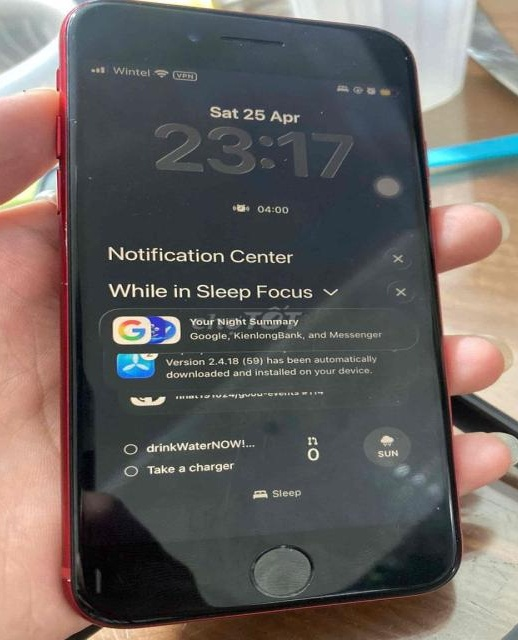scratch: (271, 32, 325, 55), (55, 7, 81, 41), (395, 51, 418, 71), (58, 220, 73, 248), (447, 559, 462, 579), (54, 275, 72, 291), (425, 498, 443, 514), (227, 39, 251, 49), (273, 542, 291, 553), (64, 575, 76, 584)
